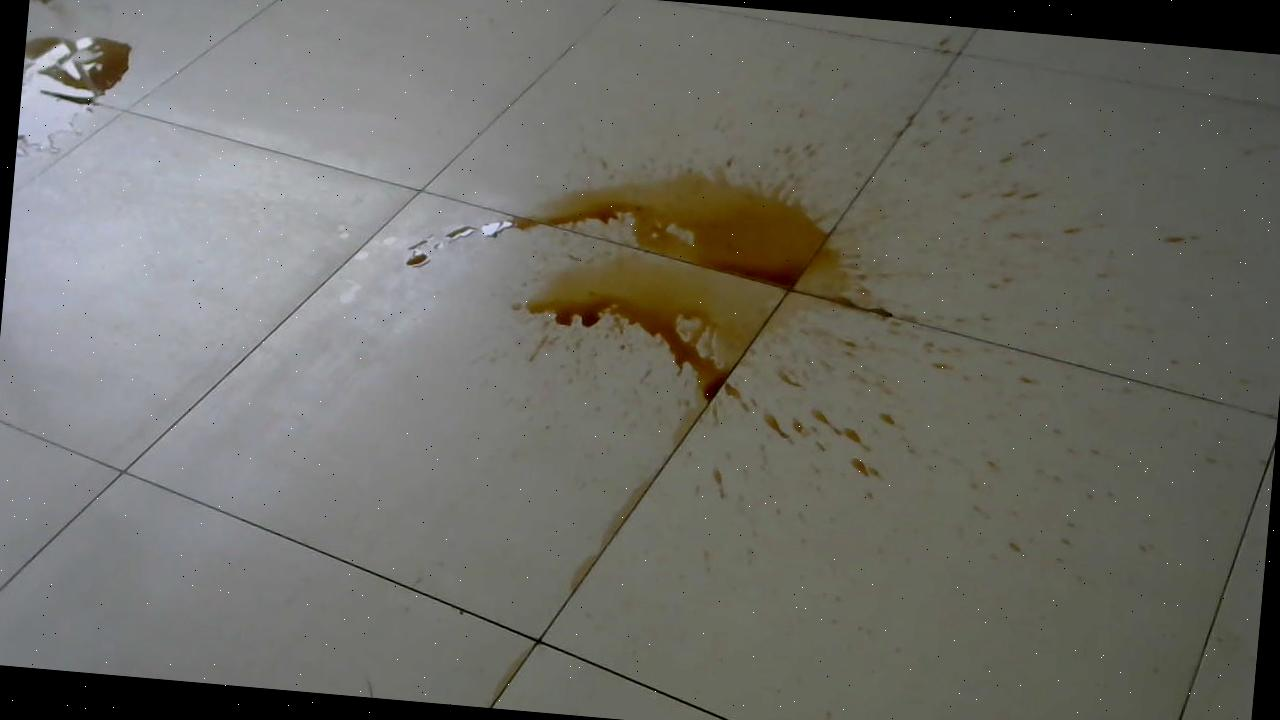dirty_floor: (369, 100, 1200, 581), (18, 25, 140, 175)
